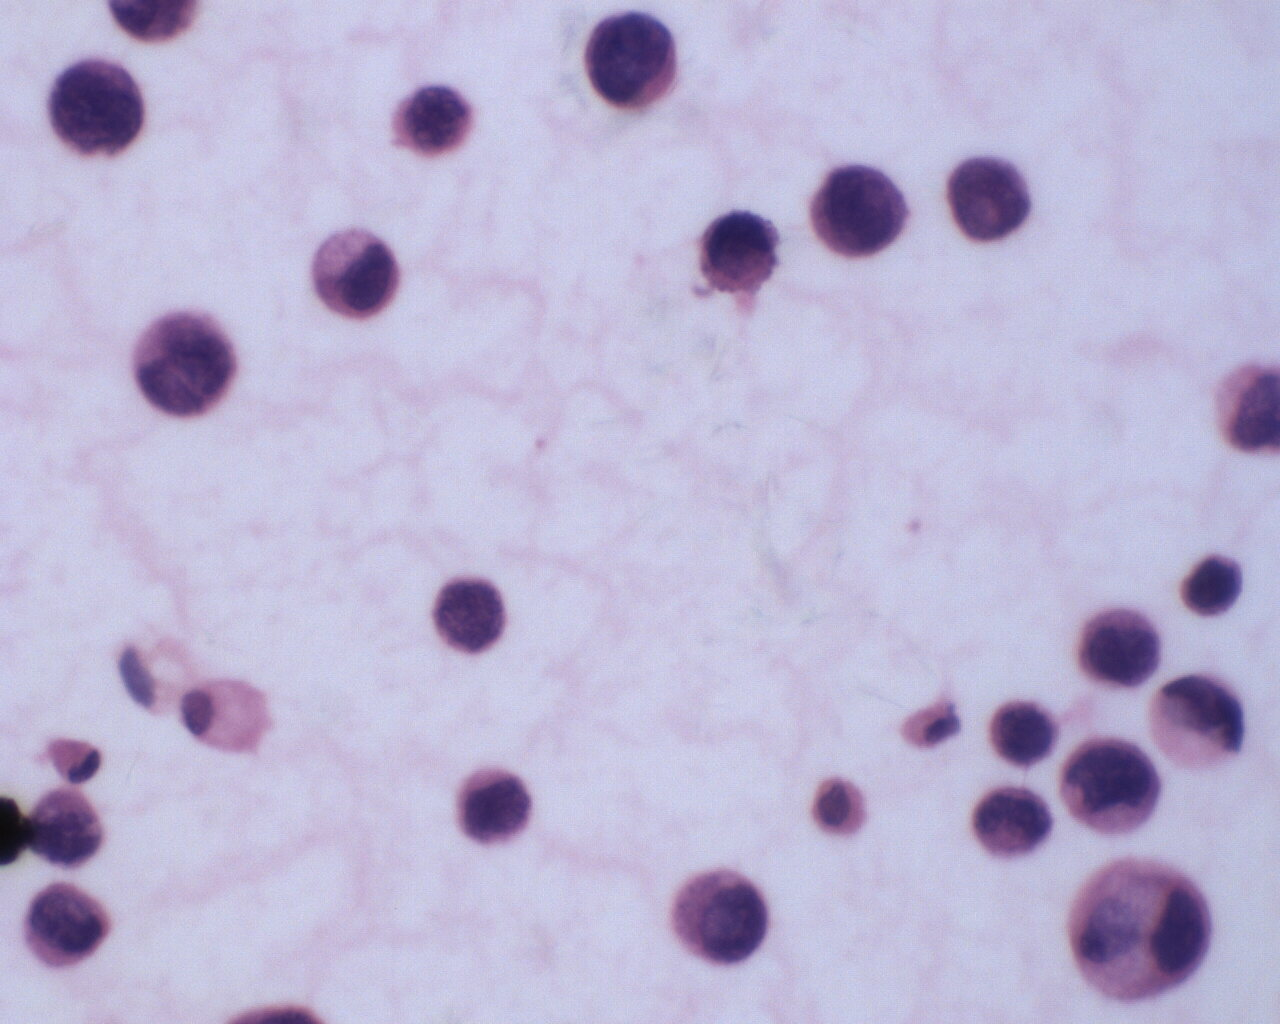ab: (806, 156, 913, 264), (42, 55, 148, 161), (667, 862, 767, 974), (1060, 736, 1167, 839), (307, 220, 408, 328), (584, 8, 686, 112), (1153, 672, 1250, 773), (1063, 599, 1162, 697), (21, 878, 117, 977), (693, 203, 784, 304), (446, 764, 537, 854), (388, 77, 480, 164), (968, 784, 1063, 865), (26, 785, 108, 870), (1177, 550, 1256, 625), (990, 697, 1071, 766)
histo: (1067, 850, 1226, 1014), (178, 671, 278, 758)
